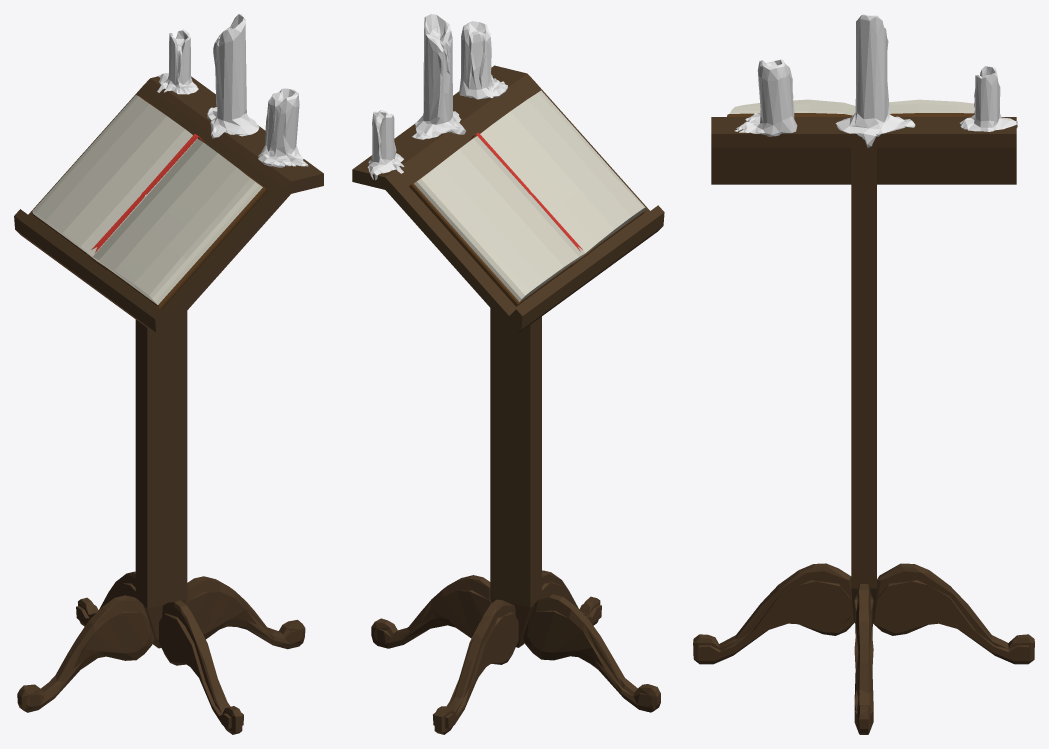
File: SavePointCastle.fbx
3 renders of one model, left to right at view 1: azimuth 30°, elevation 25°; view 2: azimuth 150°, elevation 25°; view 3: azimuth 270°, elevation 25°, orthographic. The views are drawn at different scales.
Visible parts, largest first — view 1: Cube, Cube.002, Cube.006, Cube.001, Cylinder.004, Cylinder.005, Cylinder.003; view 2: Cube, Cube.002, Cube.006, Cube.001, Cylinder.004, Cylinder.005, Cylinder.003; view 3: Cube.001, Cube.006, Cube.002, Cylinder.004, Cylinder.005, Cube, Cylinder.003.
Boxes of the visible parts, left/top/right/bottom form: Cube: left=32, top=95, right=267, bottom=309; Cube.002: left=135, top=311, right=187, bottom=648; Cube.006: left=17, top=571, right=305, bottom=734; Cube.001: left=14, top=76, right=323, bottom=338; Cylinder.004: left=207, top=14, right=259, bottom=138; Cylinder.005: left=258, top=88, right=308, bottom=167; Cylinder.003: left=157, top=29, right=198, bottom=94; Cube: left=409, top=90, right=645, bottom=306; Cube.002: left=490, top=308, right=541, bottom=647; Cube.006: left=371, top=570, right=660, bottom=734; Cube.001: left=352, top=65, right=664, bottom=335; Cylinder.004: left=412, top=14, right=465, bottom=139; Cylinder.005: left=459, top=21, right=507, bottom=99; Cylinder.003: left=367, top=110, right=404, bottom=180; Cube.001: left=711, top=117, right=1016, bottom=184; Cube.006: left=693, top=563, right=1034, bottom=734; Cube.002: left=851, top=147, right=876, bottom=623; Cylinder.004: left=835, top=14, right=915, bottom=147; Cylinder.005: left=734, top=59, right=797, bottom=136; Cube: left=727, top=99, right=974, bottom=116; Cylinder.003: left=960, top=66, right=1017, bottom=131.
Size of the model in its own units: 284 by 612 by 274.
